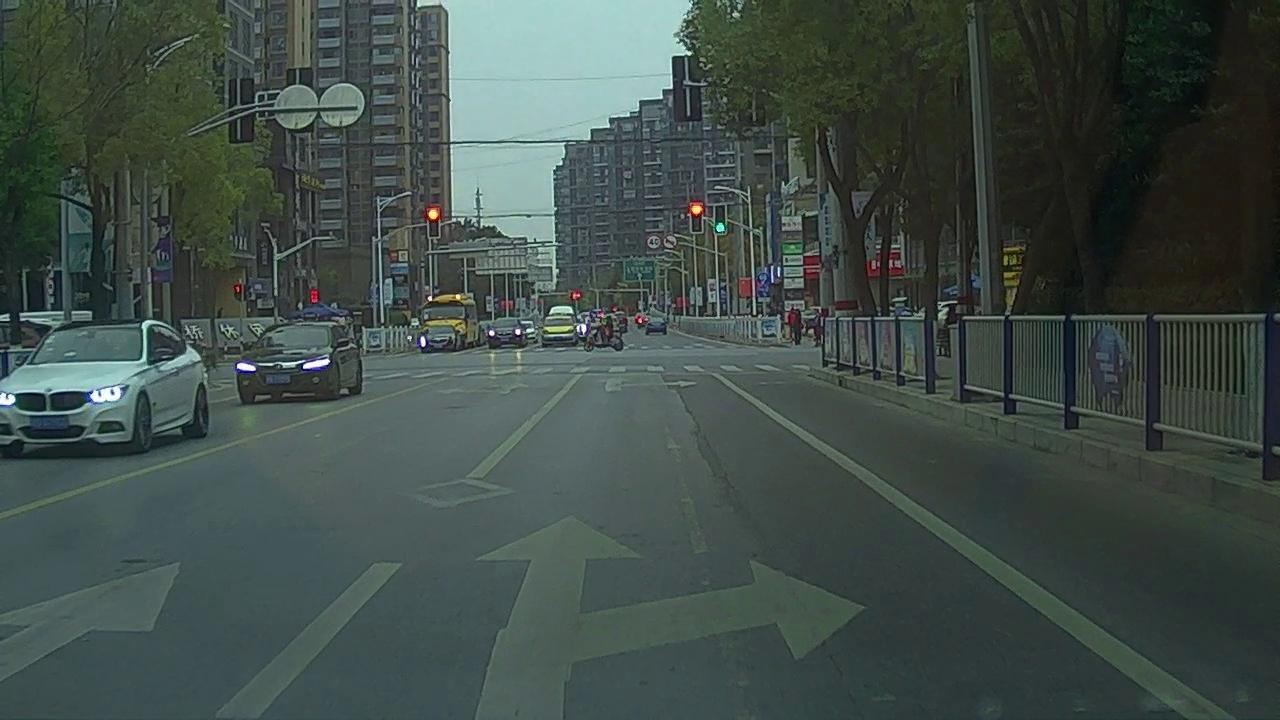traffic_light: (427, 208, 439, 238), (690, 205, 703, 232), (717, 204, 727, 235)
